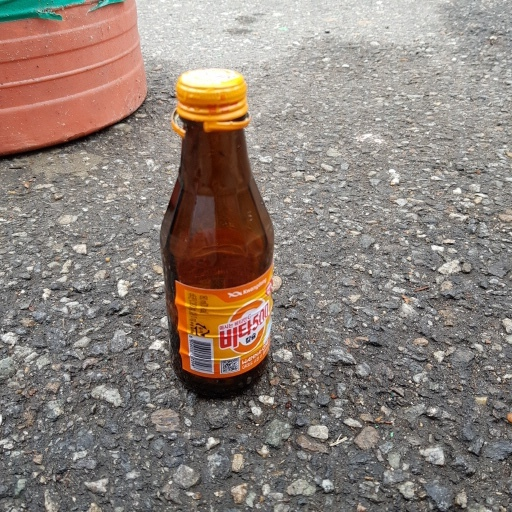Glass_3: (160, 63, 277, 399)
